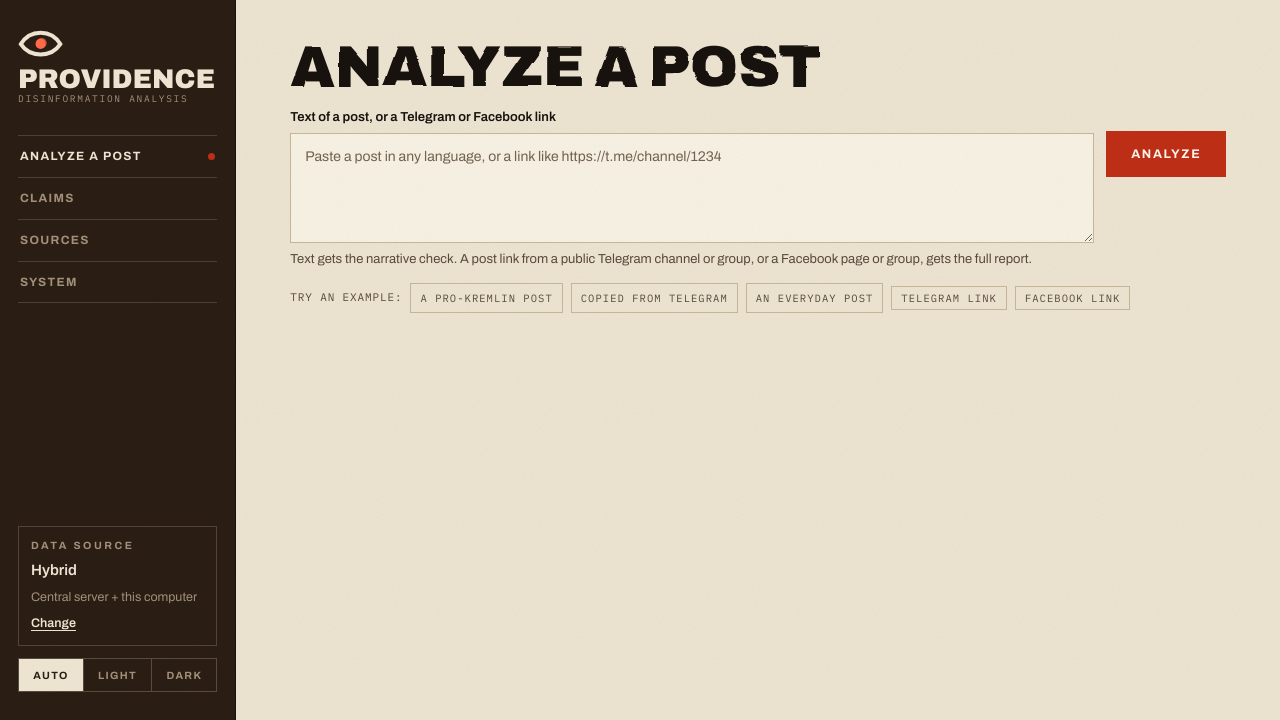
Test: Analyze a link without a demo › backend not reachable: explains it, with a retry
The image size is (1280, 720).
In the text box labelled "Text of a post, or a Telegram or Facebook link": (692, 188) [290,133,1094,243], type "https://t.me/kanalas_b/4521"
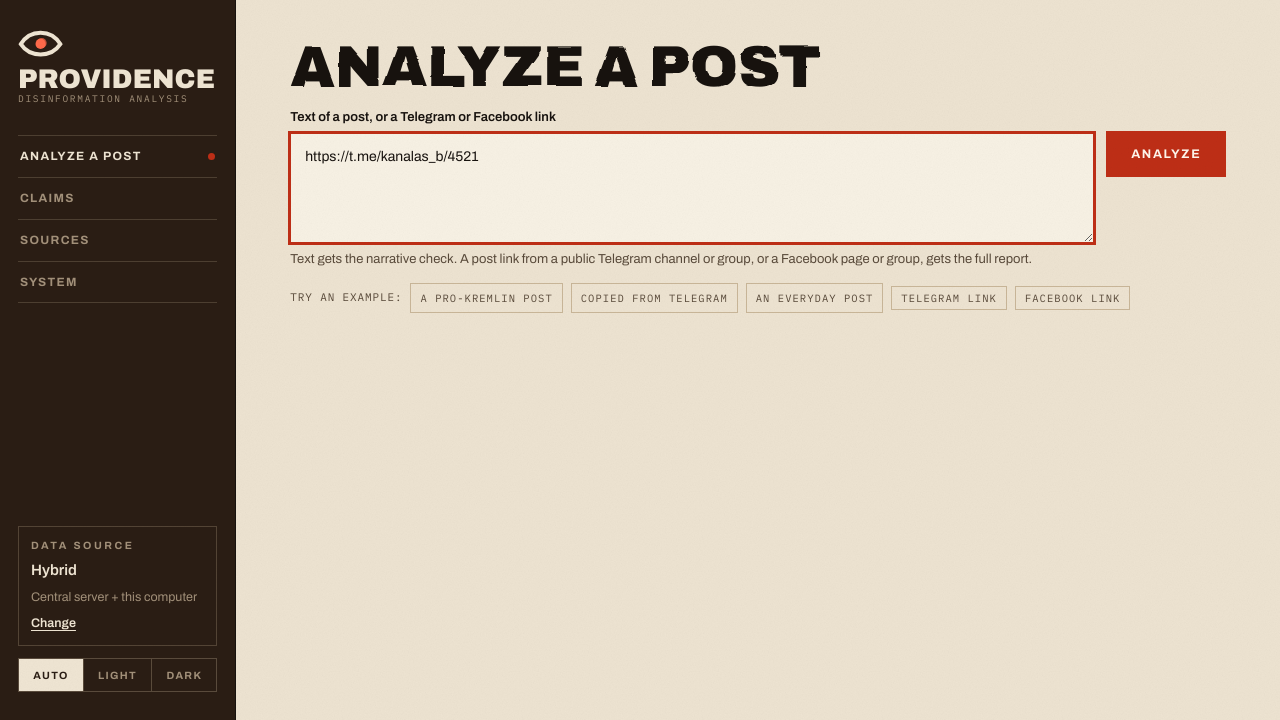
Click the button "Analyze": (1166, 154) [1106,131,1226,177]
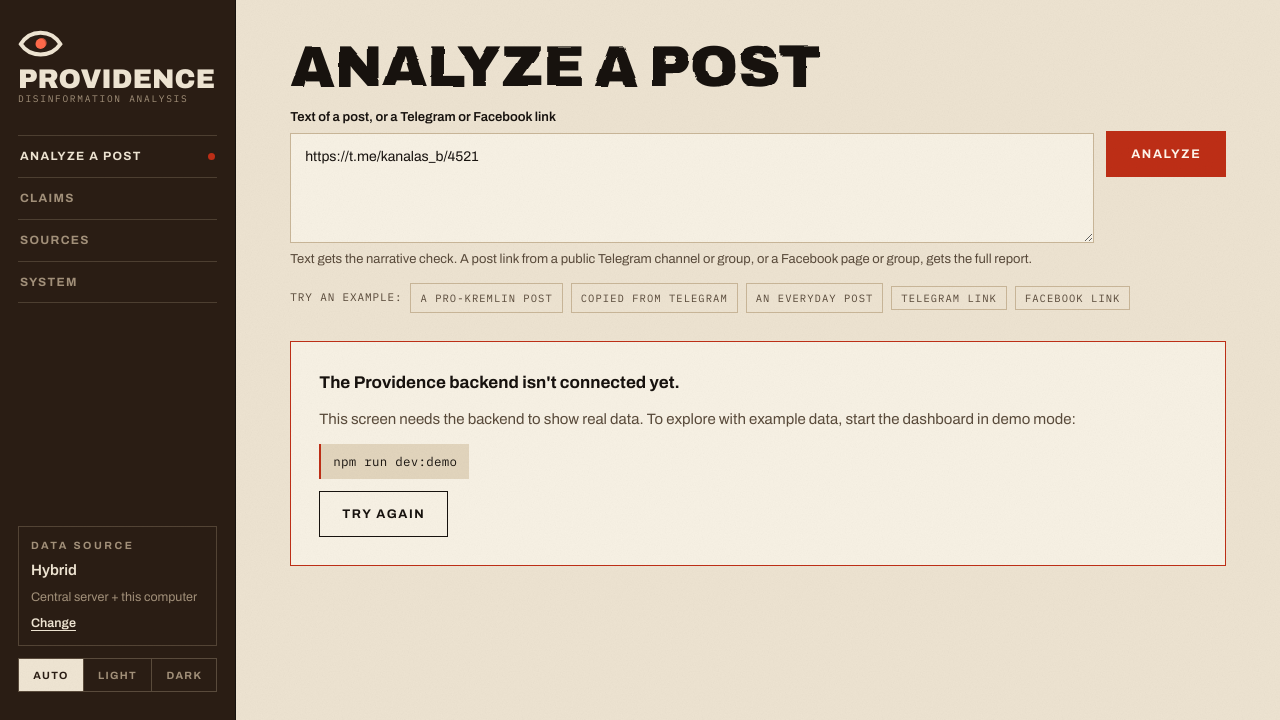
Expected: the message shows "backend isn't connected yet", [319,373,680,392]
Expected: the button "Try again" is shown, [319,491,448,537]
